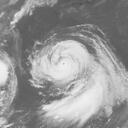cyclone: (39, 40, 93, 84), (0, 56, 14, 91)
